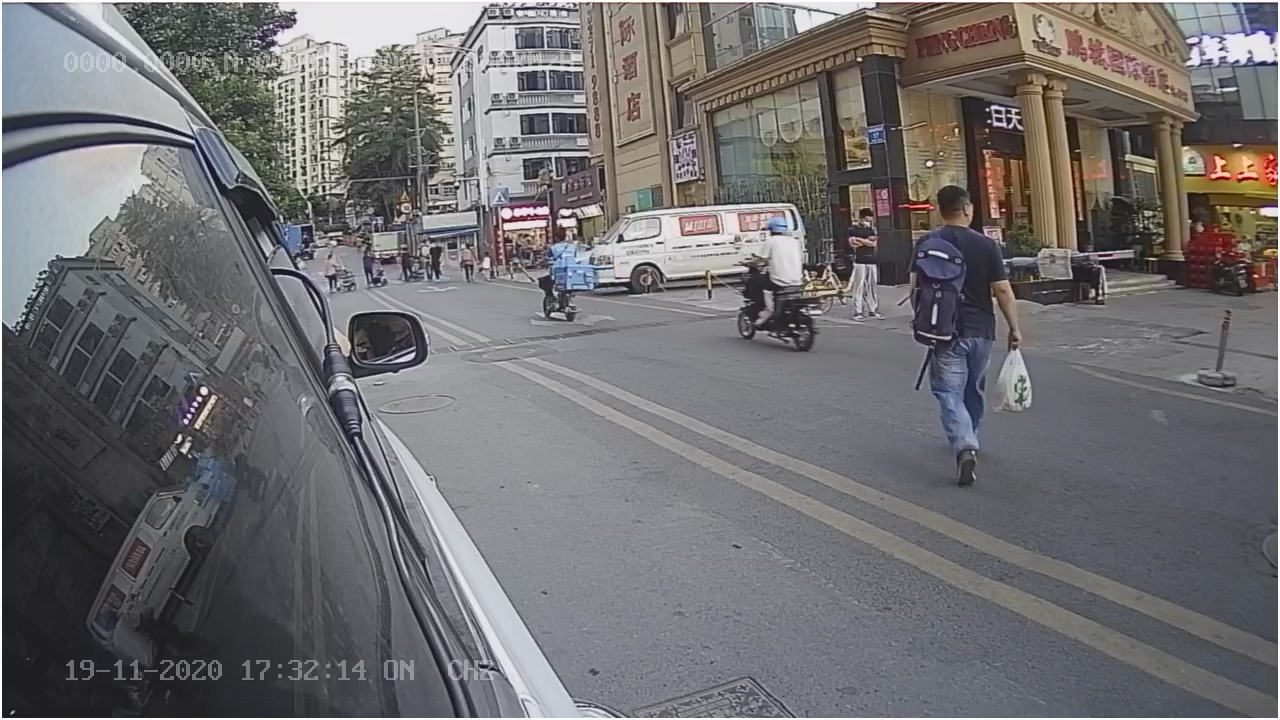person: (911, 186, 1010, 479)
